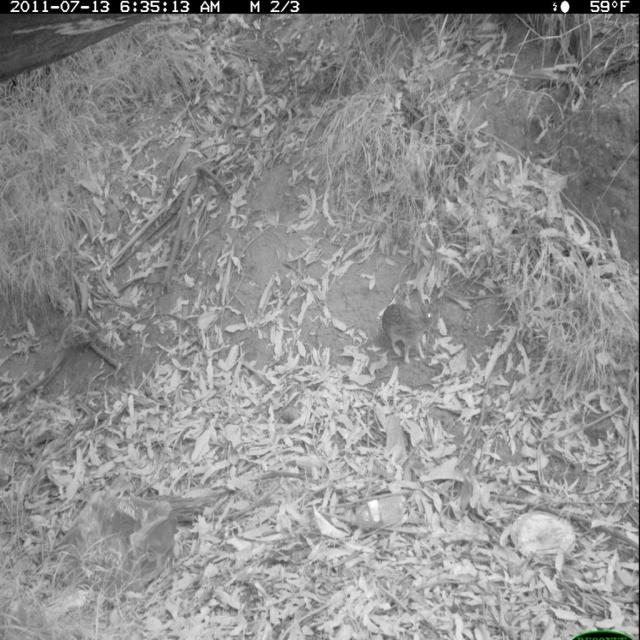rabbit: (381, 295, 444, 371)
